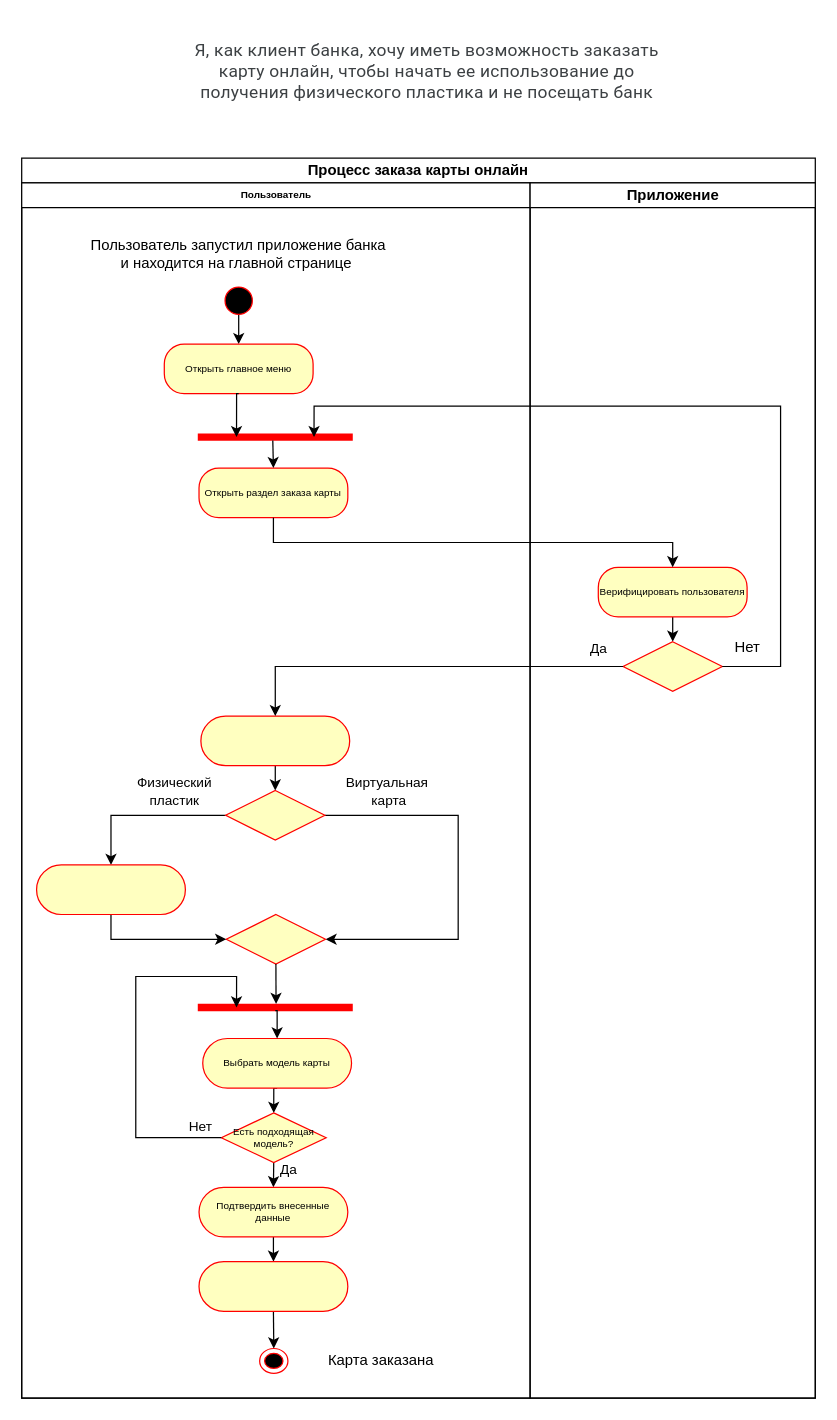
Some shapes in this 837 by 1420 pixel diagram are drawn without their labels. The shapes that lost their labels are listed below. From the top down, each one's centre as x and y in pixels, then its label:
the point at 672,665: Пользователь верифицирован?
the point at 275,740: Выбрать тип карты
the point at 110,889: Выбрать место доставки
the point at 273,1285: Оплатить карту
